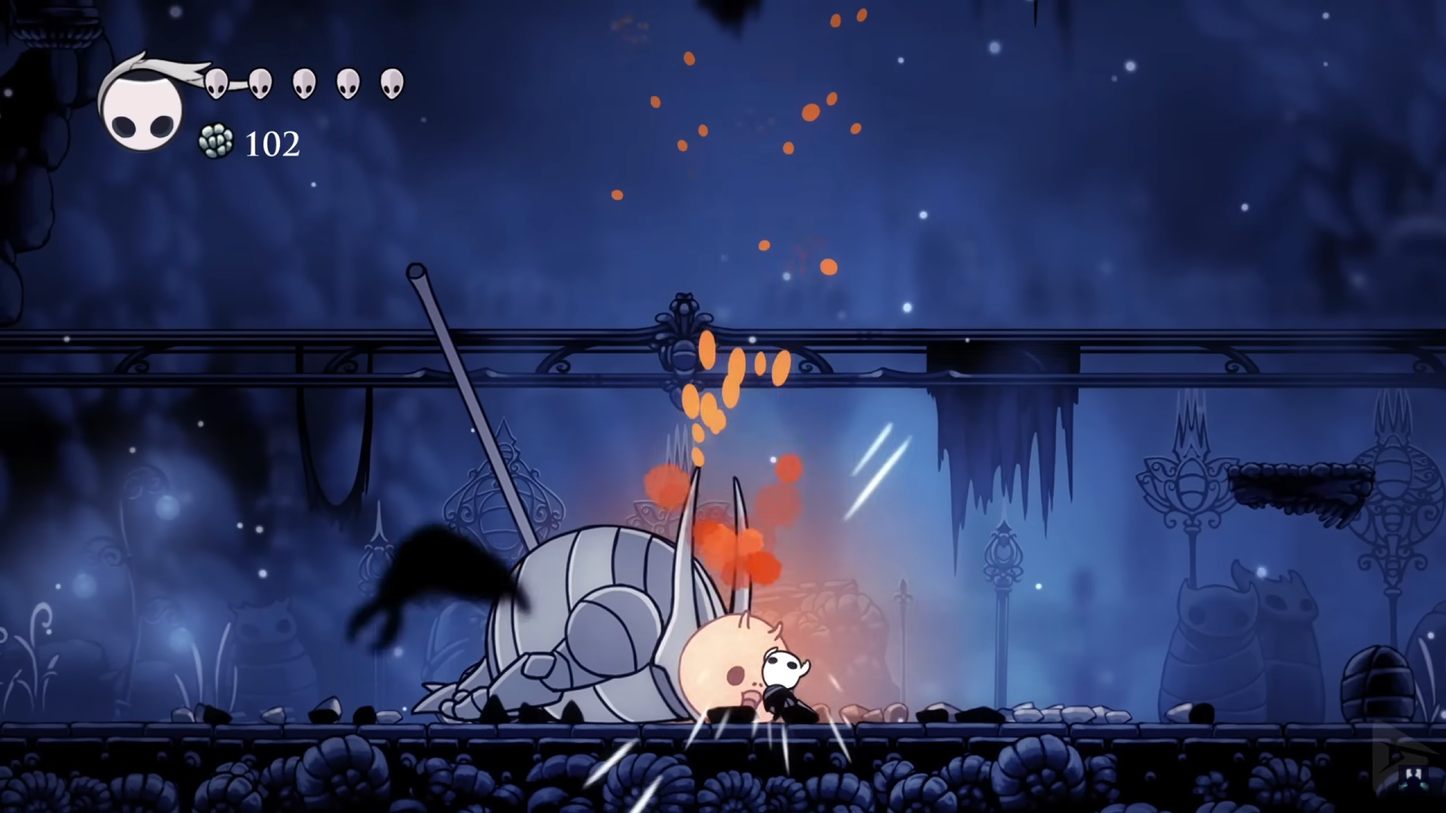HK: (755, 645, 812, 726)
